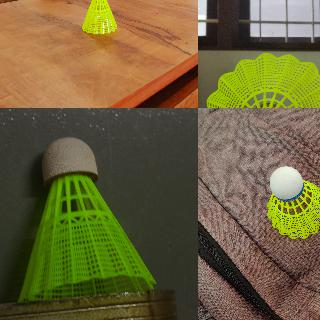shuttlecock: (17, 136, 155, 302), (202, 53, 319, 107), (265, 166, 319, 239), (82, 0, 118, 34)
